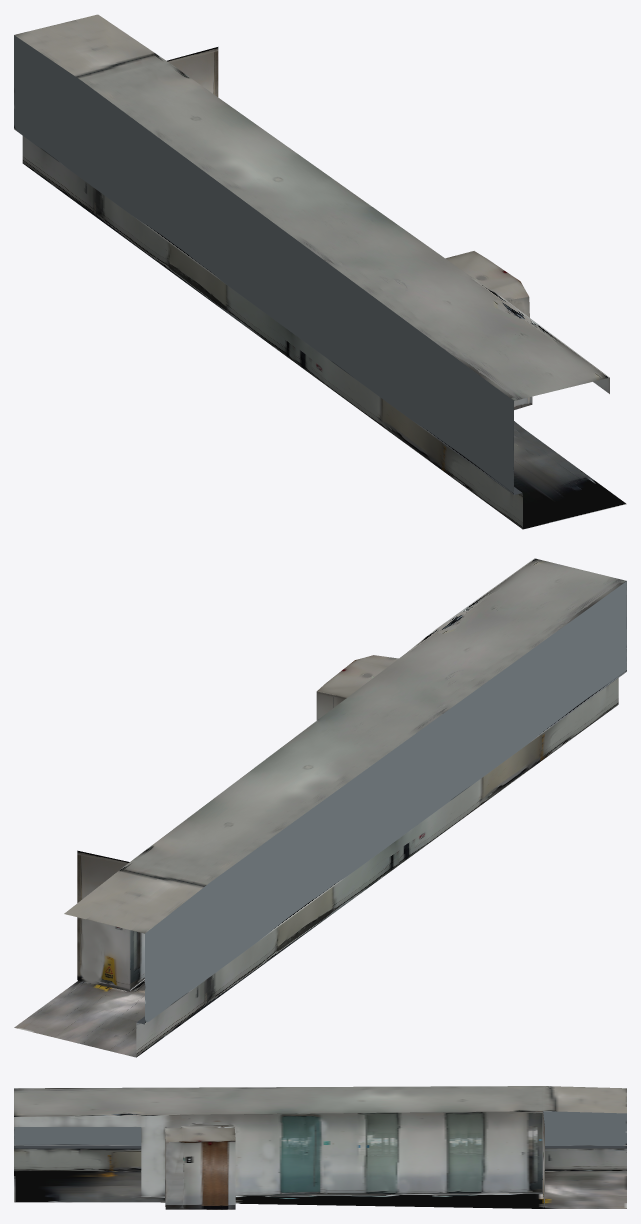
Rendered from 404_side-2-v3-IM.fbx.
3 views of the same model, one above another, from view 1: azimuth 30°, elevation 25°; view 2: azimuth 150°, elevation 25°; view 3: azimuth 270°, elevation 25° (orthographic). The views are drawn at different scales.
Visible parts, largest first — view 1: 4-side2; view 2: 4-side2; view 3: 4-side2.
Part boxes in pixels (box(x1,y1,x2,y2)): 4-side2: box(14, 14, 626, 529); 4-side2: box(14, 558, 626, 1057); 4-side2: box(14, 1086, 626, 1209).
Bounding box in the file's own units: 294 × 262 × 1763.
1 material, 1 textured.
